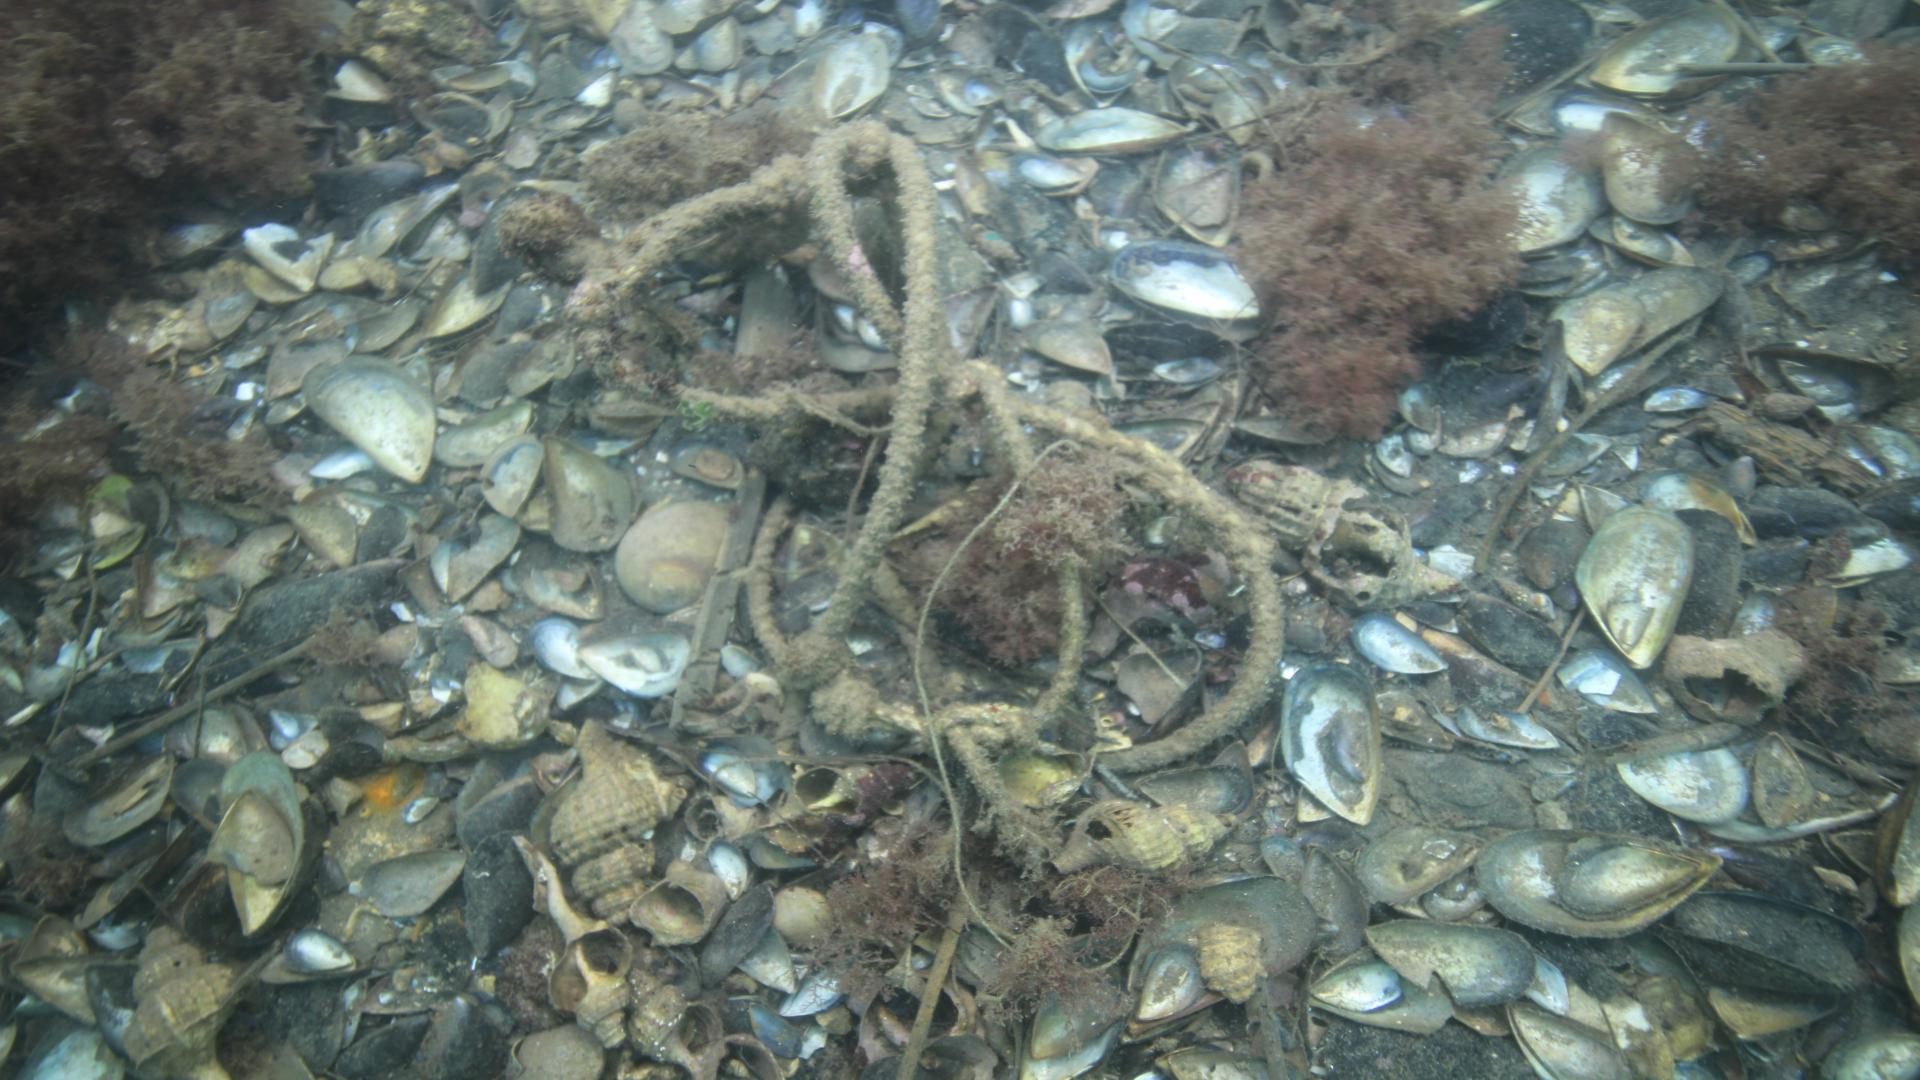bundle of ropes: (560, 113, 1284, 804)
